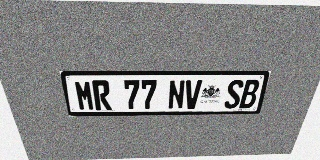7: (123, 80, 140, 110), (140, 80, 157, 110)
B: (239, 80, 261, 108)
M: (74, 80, 95, 111)
N: (168, 80, 185, 109)
R: (92, 80, 112, 110)
S: (223, 80, 244, 109)
V: (184, 80, 202, 109)
